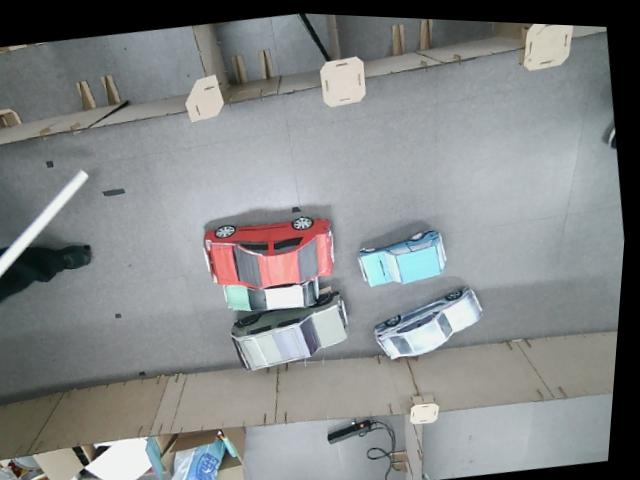car: (197, 206, 342, 302), (223, 287, 356, 378), (366, 280, 488, 367), (351, 224, 452, 293), (221, 268, 322, 321)
